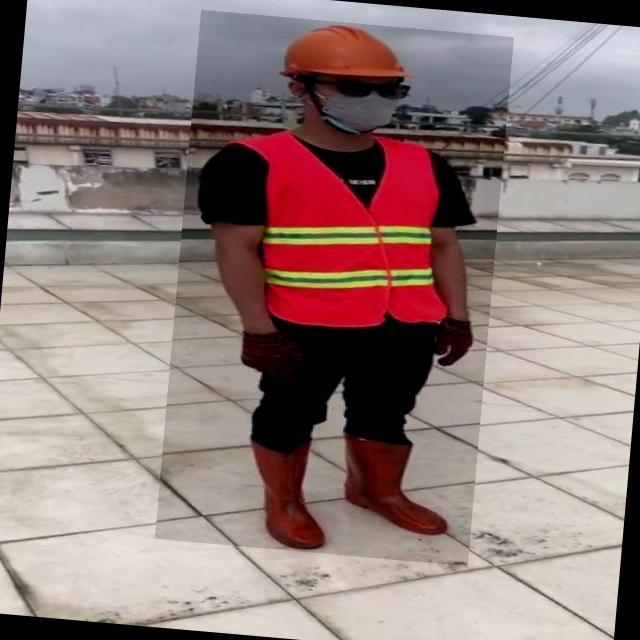Gloves: (238, 330, 310, 383), (434, 316, 474, 371)
Helmet: (262, 17, 415, 92)
Human: (155, 10, 514, 567)
Safety Boot: (336, 433, 456, 538), (236, 439, 332, 552)
Safety Vest: (256, 129, 459, 338)
